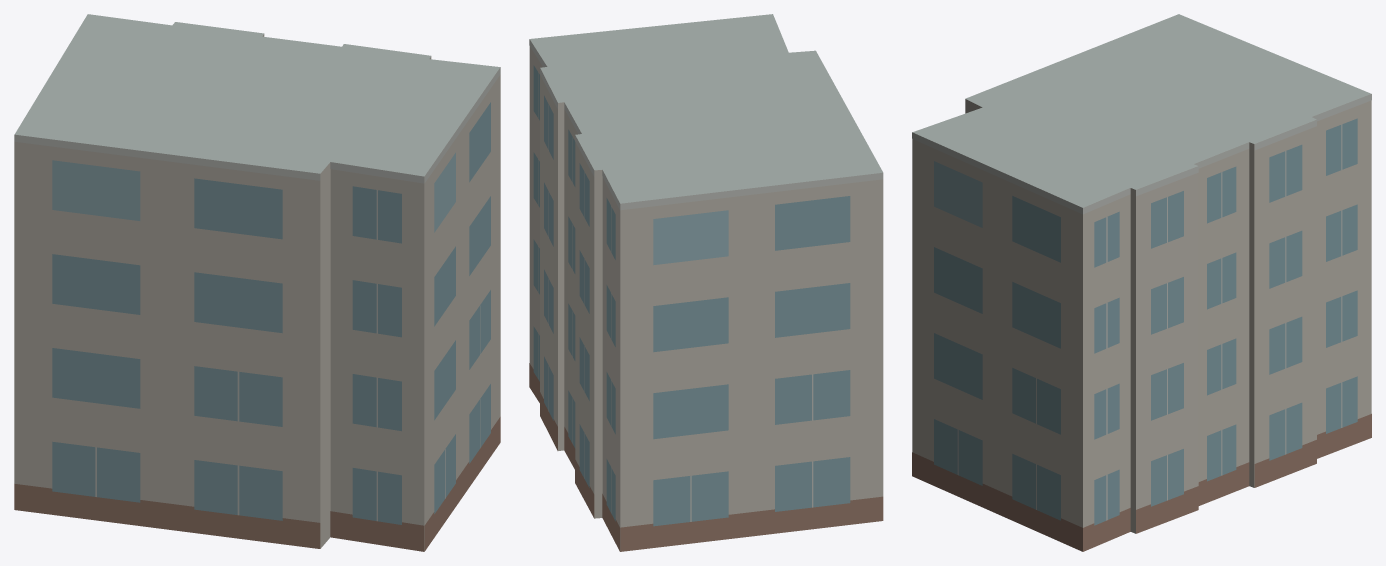
File: survey-upis-32884125.glb
The picture shows the model from 3 angles, left to right: view 1: azimuth 30°, elevation 25°; view 2: azimuth 150°, elevation 25°; view 3: azimuth 270°, elevation 25°; orthographic projection. The views are drawn at different scales.
Parts seen in each view (by area): view 1: survey-upis-32884125.tmp; view 2: survey-upis-32884125.tmp; view 3: survey-upis-32884125.tmp.
Boxes of the visible parts, x1,y1,x2,y2 form: survey-upis-32884125.tmp: (14,14,500,551); survey-upis-32884125.tmp: (529,14,883,551); survey-upis-32884125.tmp: (912,14,1371,551).
Size of the model in its own units: 15.61 by 12.9 by 15.63.
